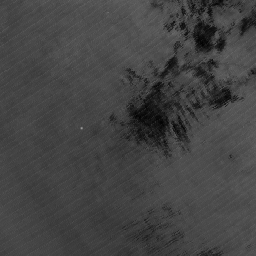Target: (78, 125, 84, 131)
